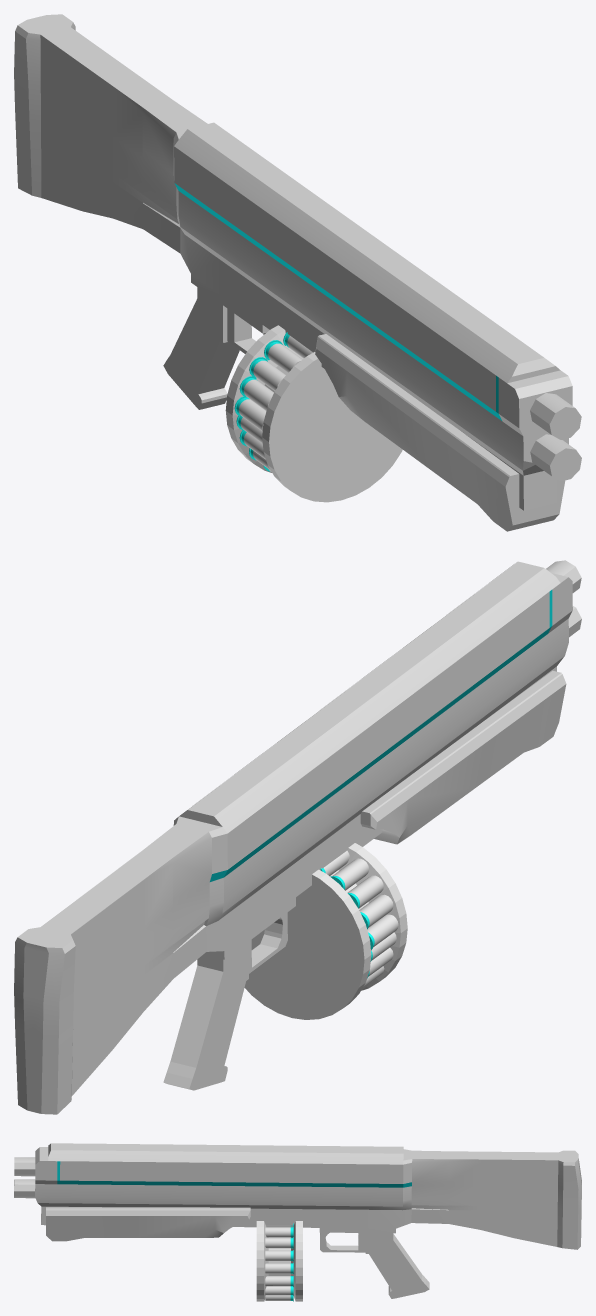
The model's file is UTS_15.fbx.
3 renders of one model, top to bottom at view 1: azimuth 30°, elevation 25°; view 2: azimuth 150°, elevation 25°; view 3: azimuth 270°, elevation 25°, orthographic. The views are drawn at different scales.
Parts seen in each view (by area): view 1: Cube; view 2: Cube; view 3: Cube.
Boxes of the visible parts, left/top/right/bottom form: Cube: left=14, top=14, right=581, bottom=531; Cube: left=14, top=560, right=581, bottom=1114; Cube: left=14, top=1143, right=581, bottom=1301.
Bounding box in the file's own units: 11.71 × 21.71 × 74.48.
